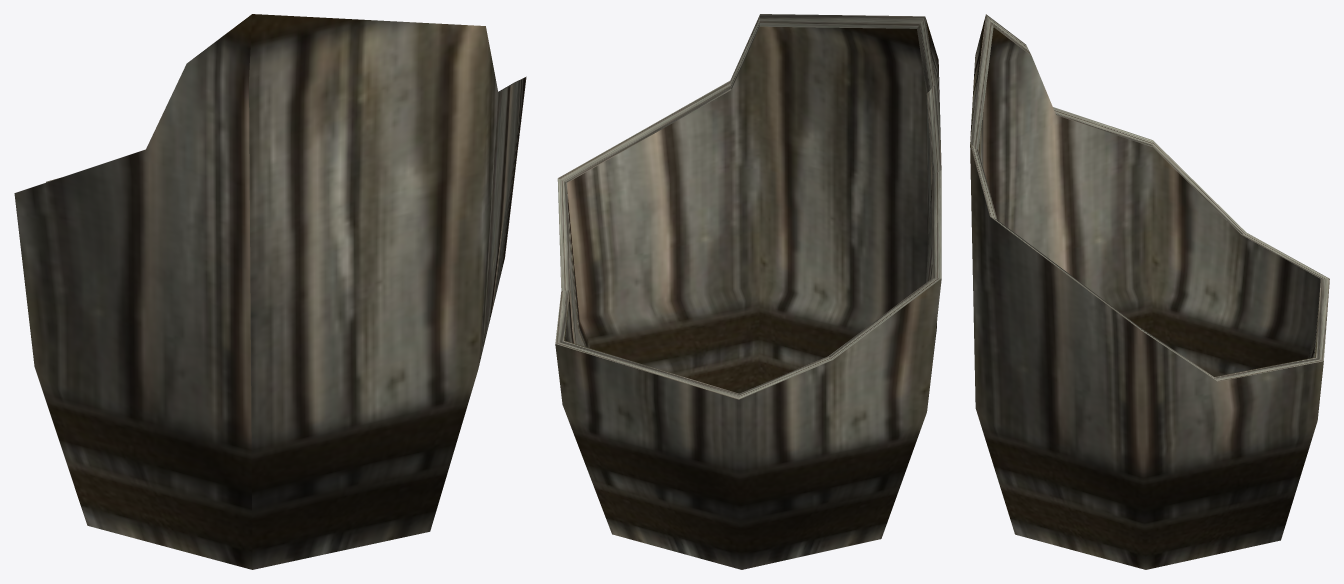
File: pir_m_prp_cnt_barrelA_destroyed.fbx
The picture shows the model from 3 angles, left to right: view 1: azimuth 30°, elevation 25°; view 2: azimuth 150°, elevation 25°; view 3: azimuth 270°, elevation 25°; orthographic projection. The views are drawn at different scales.
Visible parts, largest first — view 1: lod_high; view 2: lod_high; view 3: lod_high.
Boxes of the visible parts, x1,y1,x2,y2 form: lod_high: (14, 14, 526, 569); lod_high: (555, 14, 941, 569); lod_high: (970, 14, 1329, 569).
Bounding box in the file's own units: 480 × 528 × 386.
Materials: 1 (1 with a texture image).
